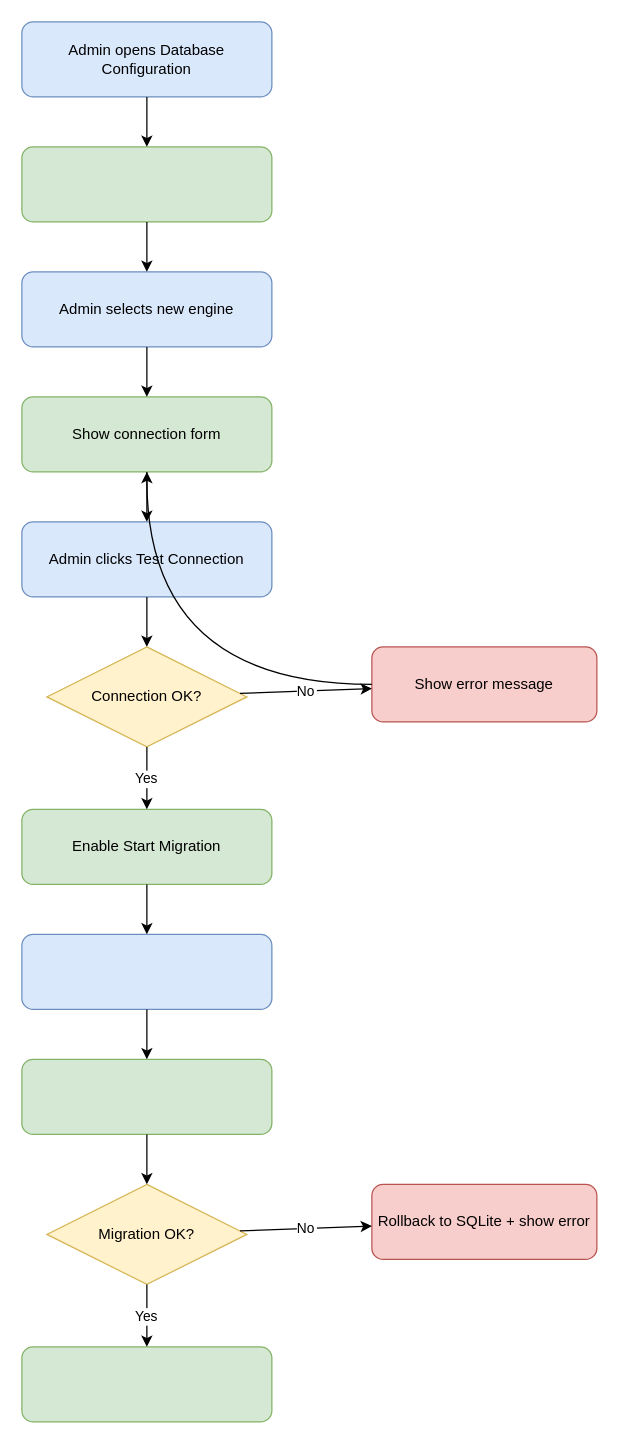
The diagram is 619 pixels wide and 1444 high, and some of its shapes have lost their labels. Each missing label, with the centre of its shape:
"Admin clicks Start Migration" belongs at [146,971].
"Create schema + copy data (progress bar)" belongs at [146,1096].
"Display current DB engine and status" belongs at [146,184].
"Switch active DB + confirm success" belongs at [146,1384].
